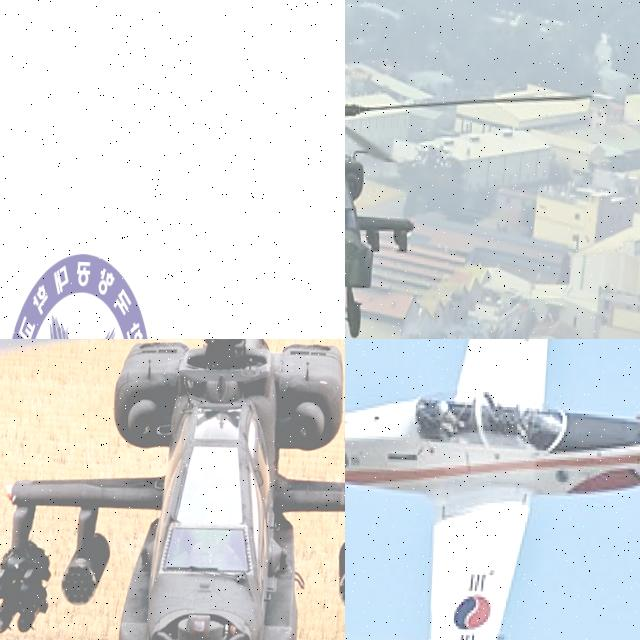Apache: (0, 339, 345, 640), (345, 0, 595, 339)
KAU_Marker: (0, 251, 155, 339)
KT-1: (345, 339, 640, 640)
